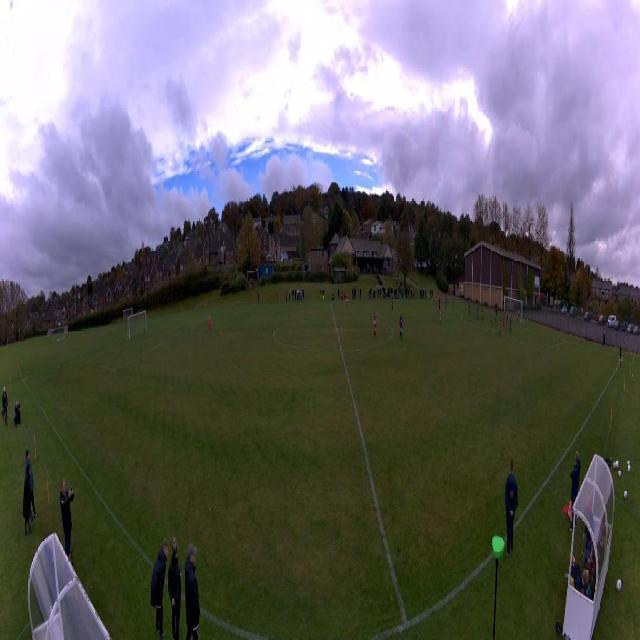player: (398, 312, 404, 341), (373, 311, 378, 339), (208, 315, 212, 334), (516, 308, 520, 324), (499, 317, 502, 338), (346, 293, 349, 309), (438, 297, 441, 313), (439, 307, 441, 325), (510, 315, 512, 332), (491, 307, 493, 324), (468, 298, 470, 313), (445, 295, 447, 310), (477, 304, 479, 319), (481, 306, 483, 321), (495, 308, 497, 323), (503, 311, 505, 326), (391, 296, 393, 311), (507, 311, 509, 323), (435, 295, 437, 306), (440, 294, 442, 305), (437, 291, 439, 302), (453, 295, 454, 309), (447, 295, 448, 304)
